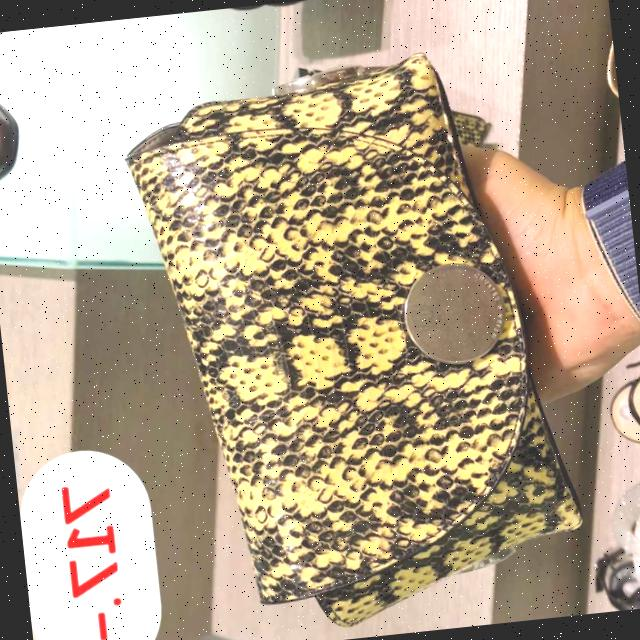Handbag: (106, 18, 610, 640)
